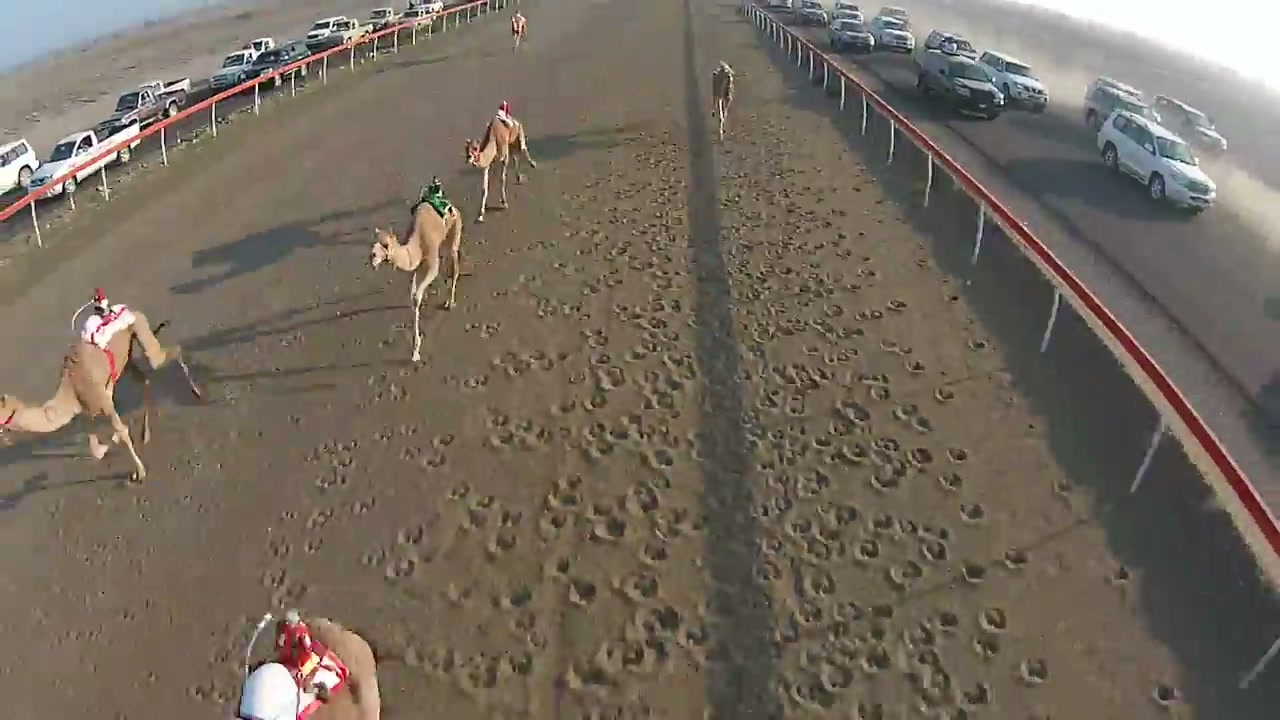animal_foot_print: (258, 104, 1139, 719), (717, 110, 1076, 717)
